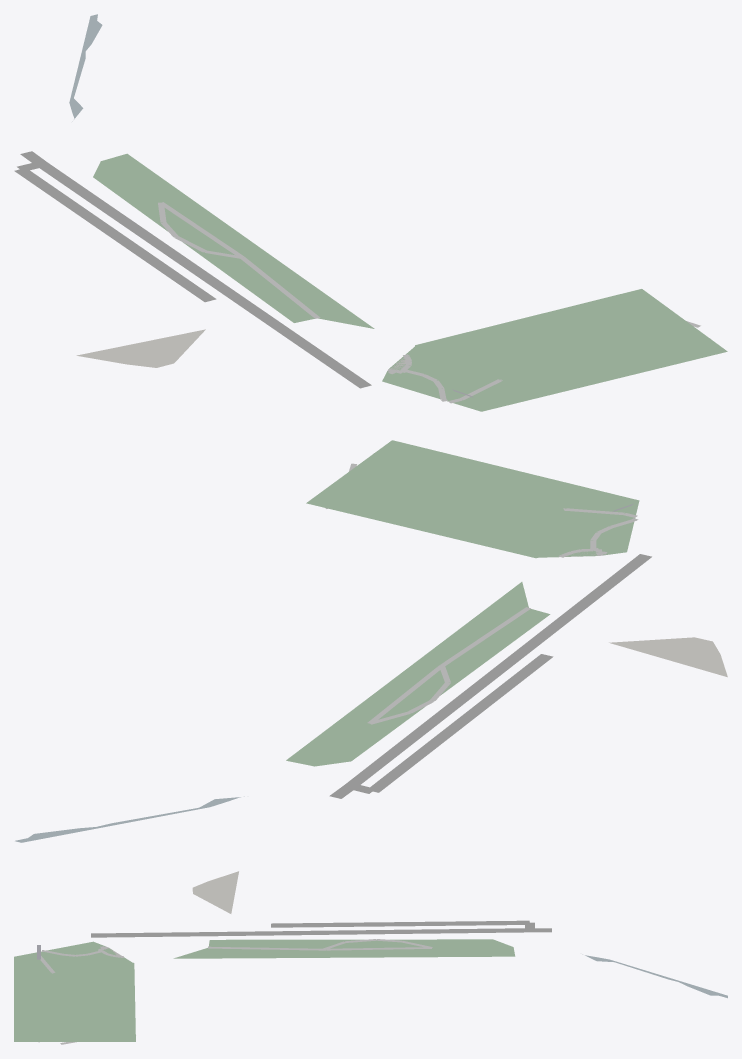
3 renders of one model, top to bottom at view 1: azimuth 30°, elevation 25°; view 2: azimuth 150°, elevation 25°; view 3: azimuth 270°, elevation 25°, orthographic. The views are drawn at different scales.
Size of the model in its own units: 287 by 6.54 by 500.
